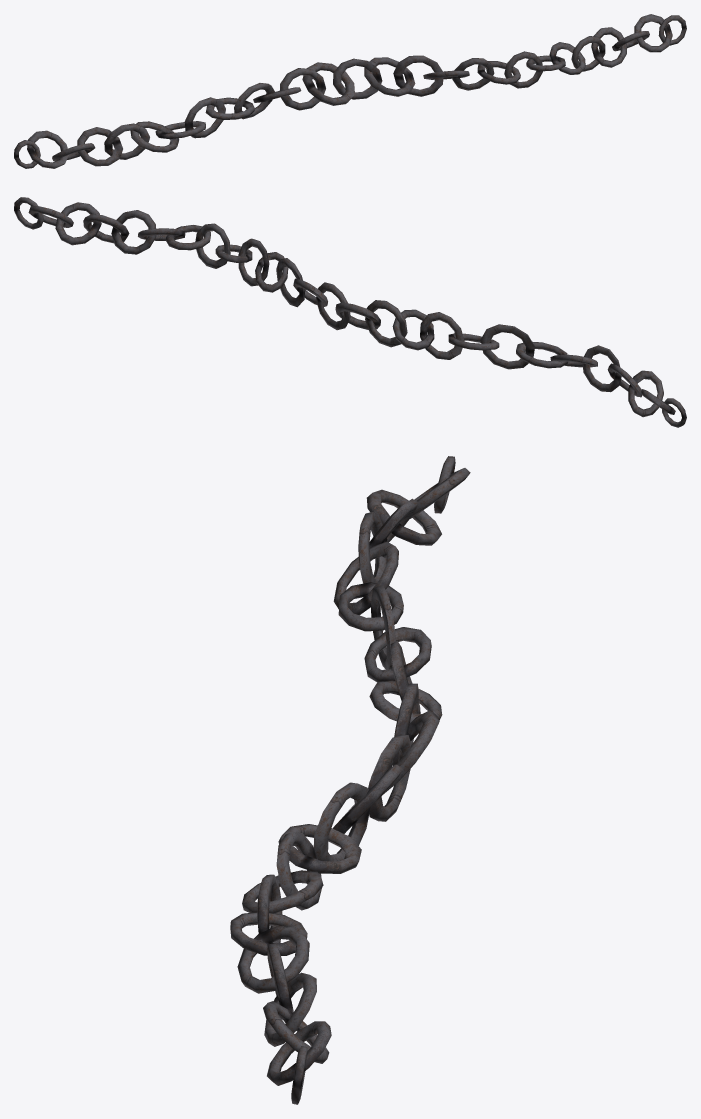
File: Castle Wall Ring Chain 10.fbx
The picture shows the model from 3 angles, top to bottom: view 1: azimuth 30°, elevation 25°; view 2: azimuth 150°, elevation 25°; view 3: azimuth 270°, elevation 25°; orthographic projection. The views are drawn at different scales.
Parts seen in each view (by area): view 1: Cube; view 2: Cube; view 3: Cube.
Part boxes in pixels (x1,y1,x2,y2): Cube: (14,14,686,168); Cube: (14,197,686,427); Cube: (230,456,470,1104).
Size of the model in its own units: 333 by 21.4 by 54.62.
